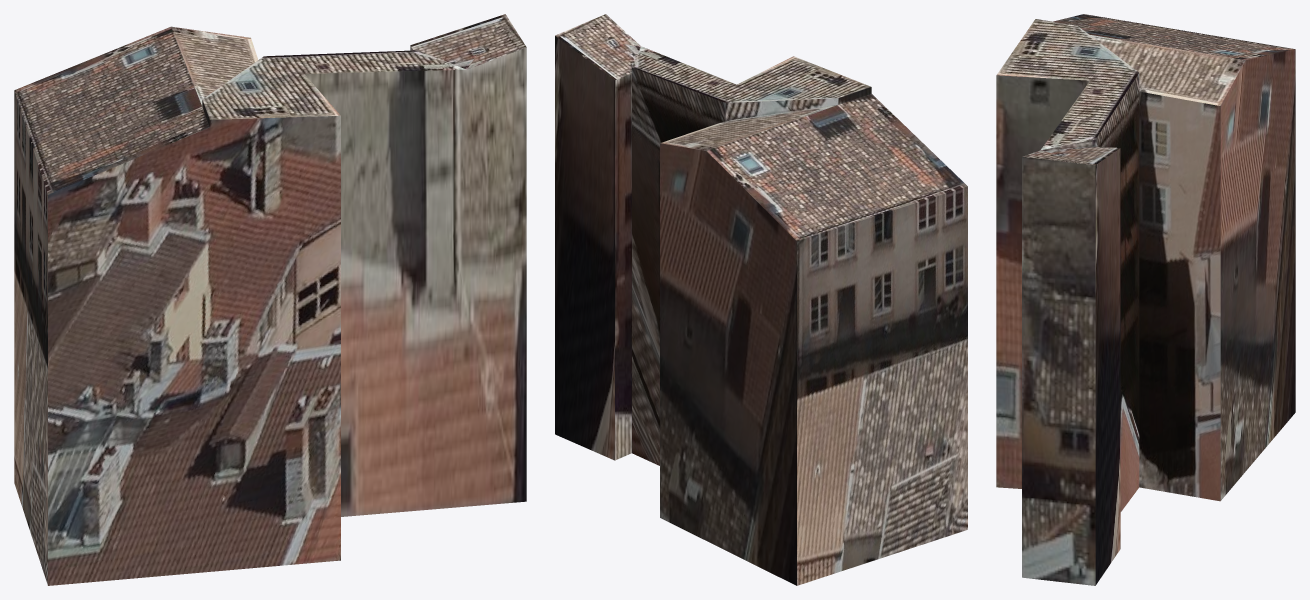
3 views of the same model, side by side, from view 1: azimuth 30°, elevation 25°; view 2: azimuth 150°, elevation 25°; view 3: azimuth 270°, elevation 25° (orthographic). The views are drawn at different scales.
Parts seen in each view (by area): view 1: Z_UP; view 2: Z_UP; view 3: Z_UP.
Part boxes in pixels (x1,y1,x2,y2): Z_UP: [14, 14, 526, 585]; Z_UP: [555, 14, 967, 585]; Z_UP: [996, 14, 1295, 585].
Size of the model in its own units: 22.13 by 20.7 by 13.34.
2 materials, 1 textured.
